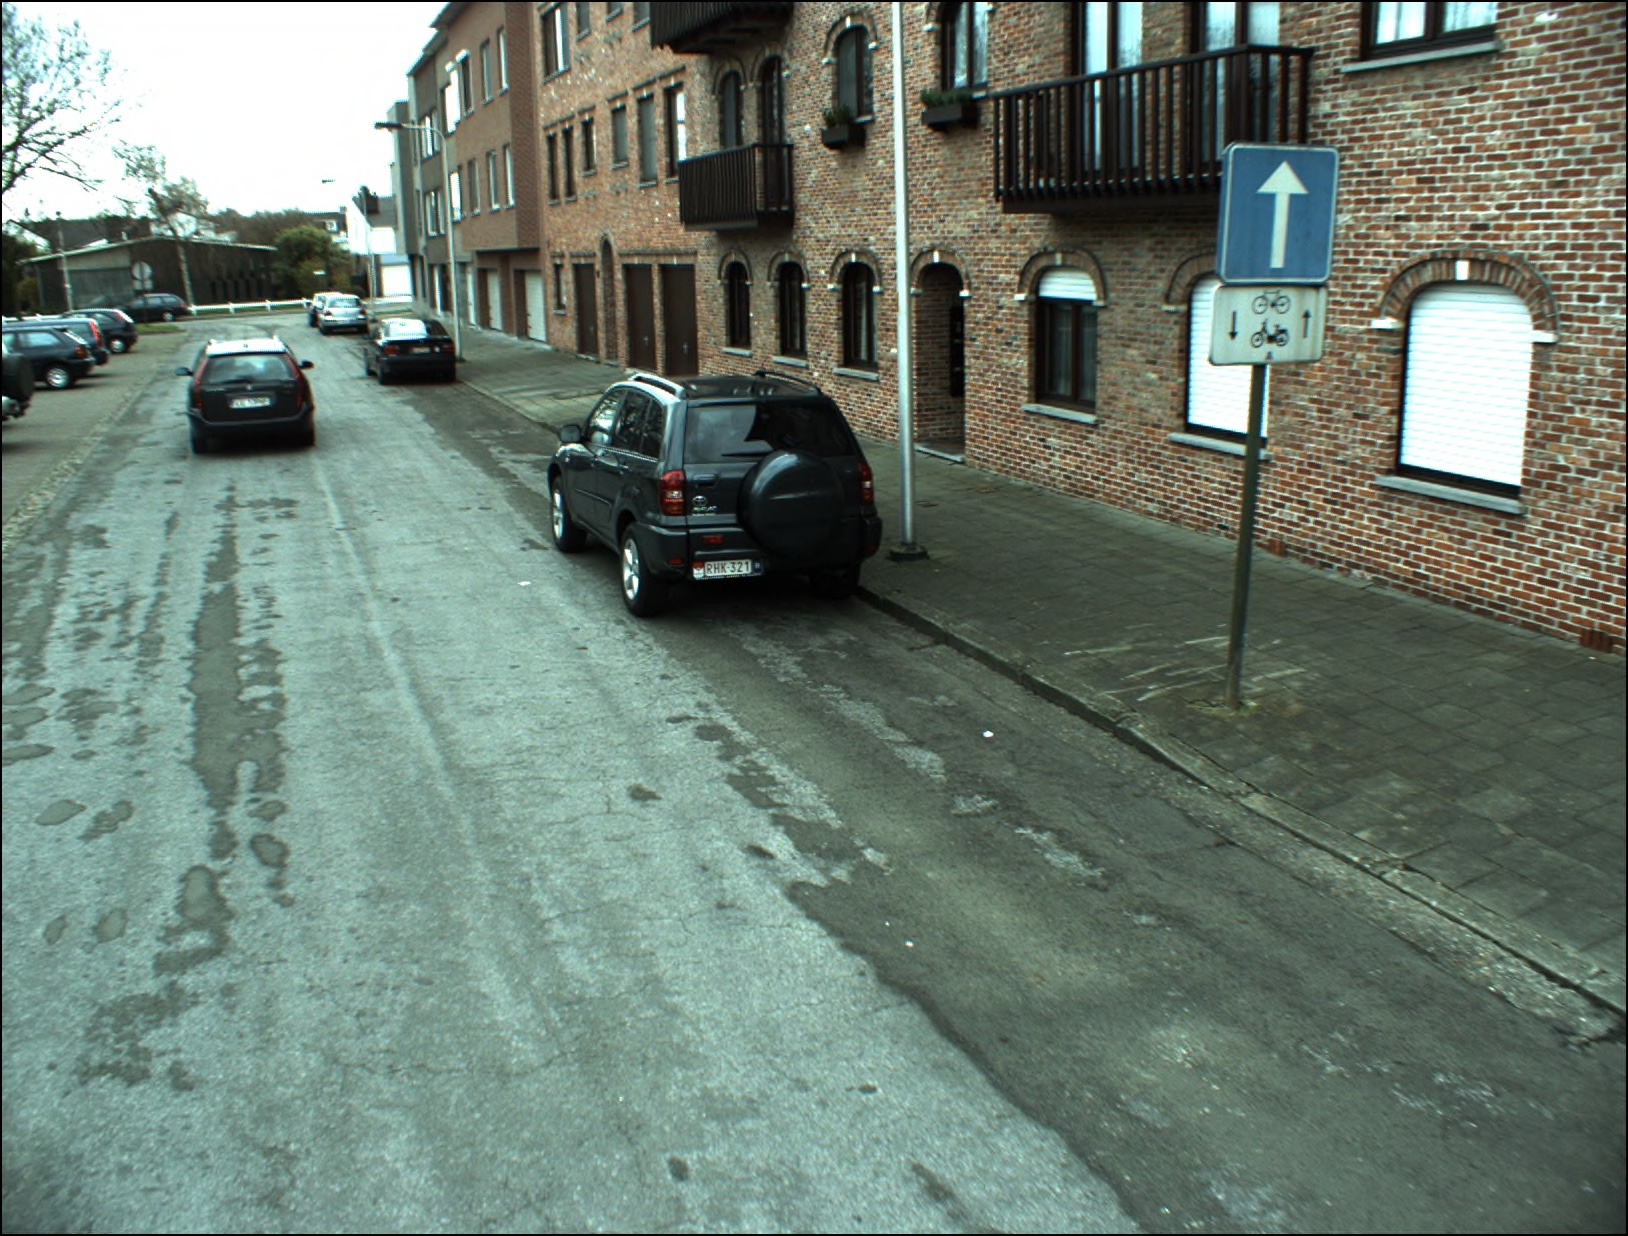oneway: (1222, 144, 1332, 282)
